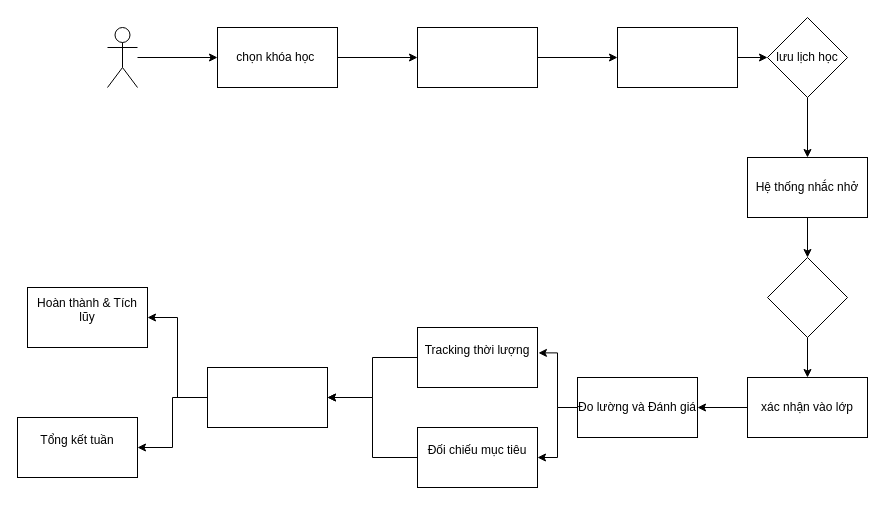
The diagram is 885 pixels wide and 516 high, and some of its shapes have lost their labels. The centre of each missing label's shape, as x and y in pixels:
"Ghi nhận Thành tựu" goes at point 267,397.
"hệ thống xử lý" goes at point 677,57.
"Học sinh" goes at point 122,57.
"Nhấn" goes at point 807,297.
"Đặt lịch học" goes at point 477,57.
